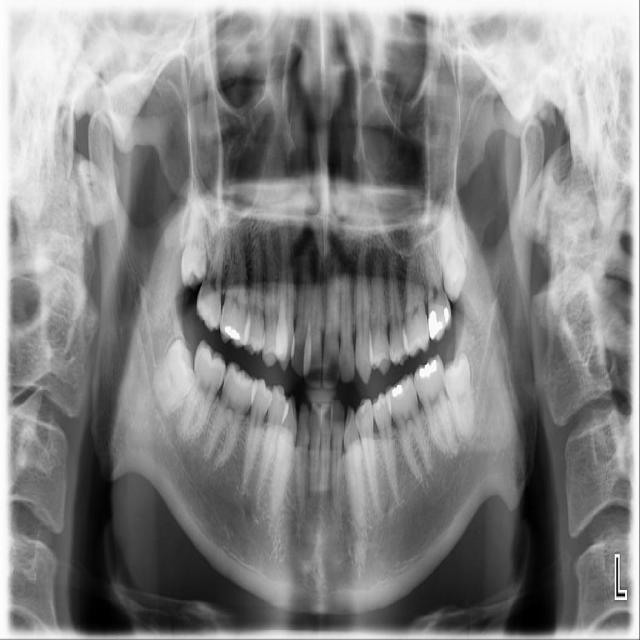Filling: (428, 299, 452, 343), (221, 320, 245, 343), (416, 357, 439, 379), (390, 376, 411, 400)
impacted tooth: (148, 340, 196, 413), (434, 196, 467, 300), (181, 187, 210, 286), (444, 355, 475, 443)
